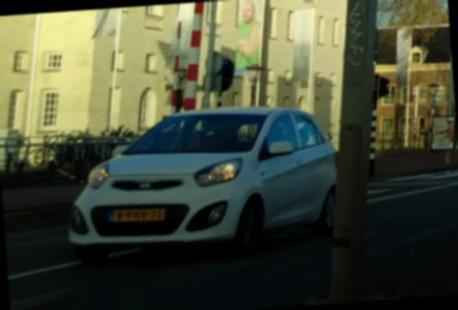license-plate: (109, 208, 166, 222)
